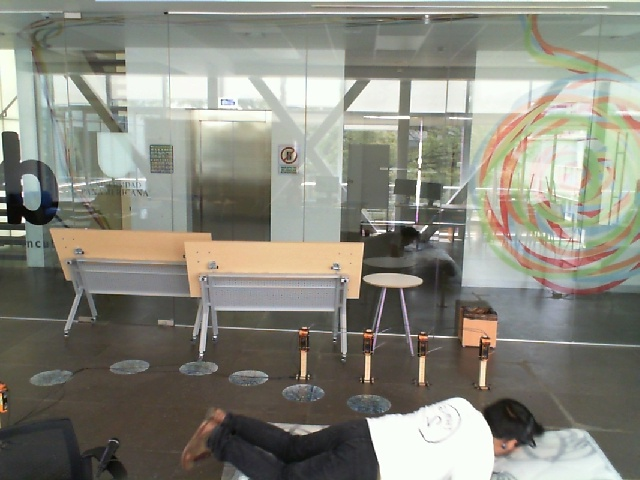fall: (167, 374, 549, 480)
